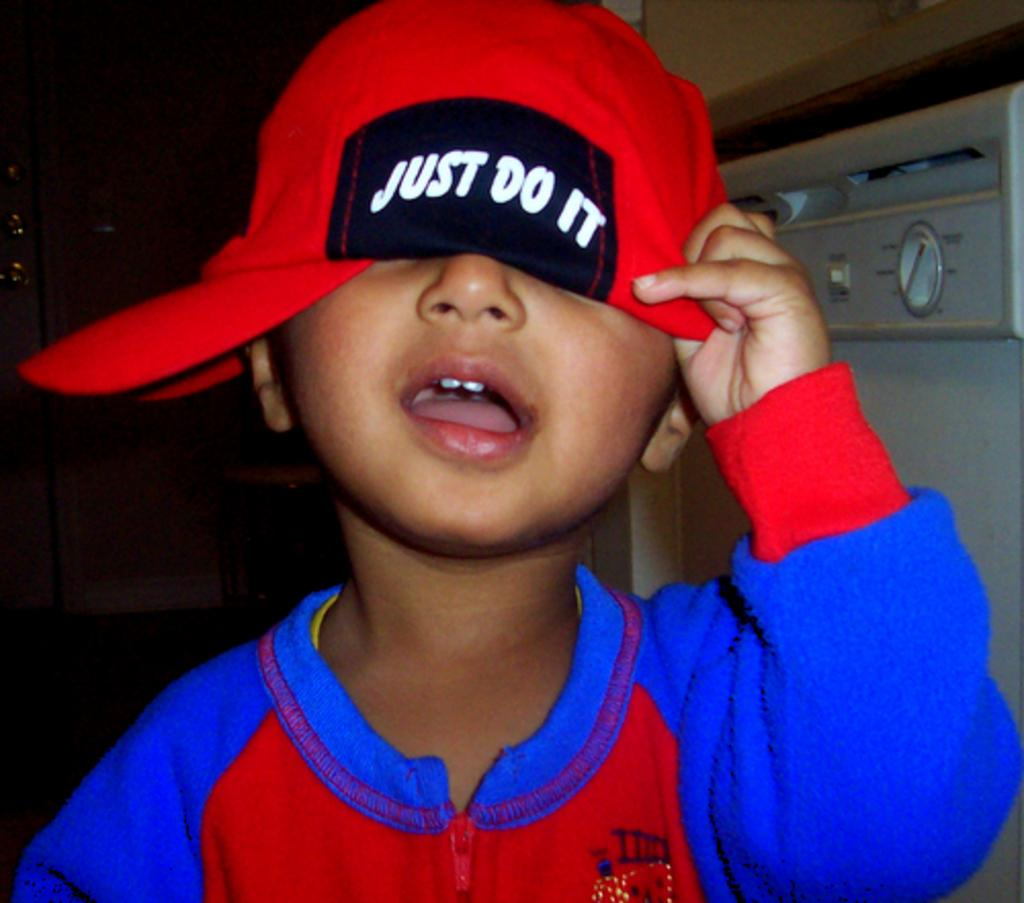Hat: (10, 0, 728, 403)
